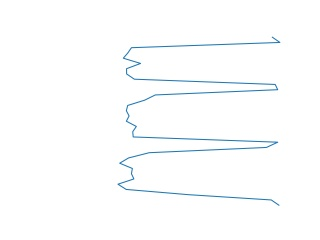majorRiverChannelBar: (115, 37, 285, 206)
